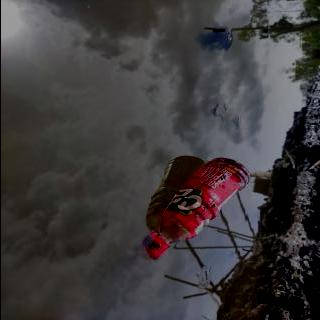bottle: (140, 156, 254, 262)
